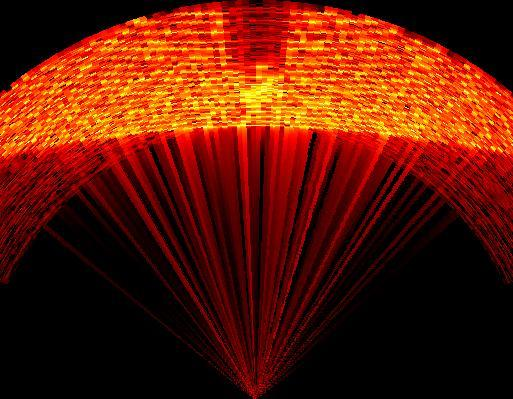box_crate: (224, 4, 290, 68)
